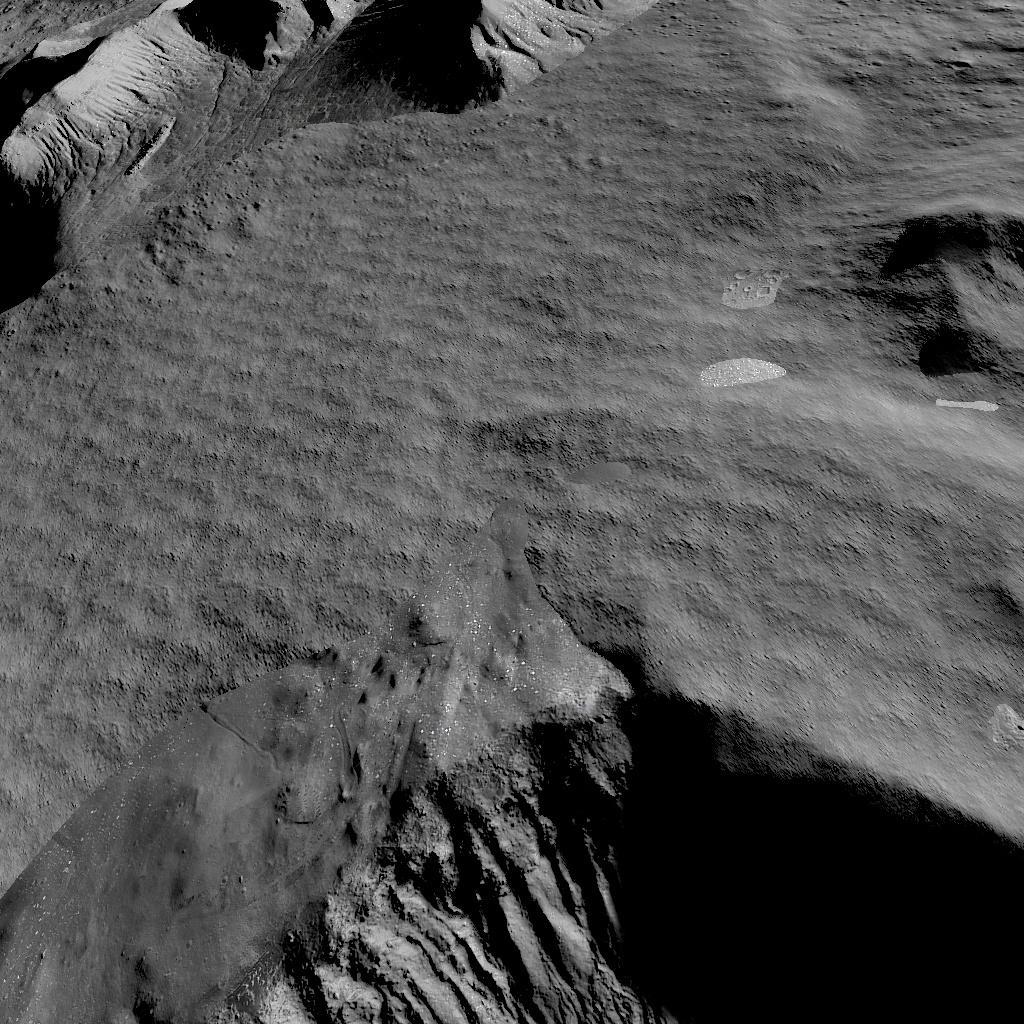Boulders: (0, 0, 665, 291)
Crater: (0, 542, 1024, 1024), (823, 180, 1024, 418)
Plan surface: (5, 329, 801, 506), (692, 0, 1008, 159)
